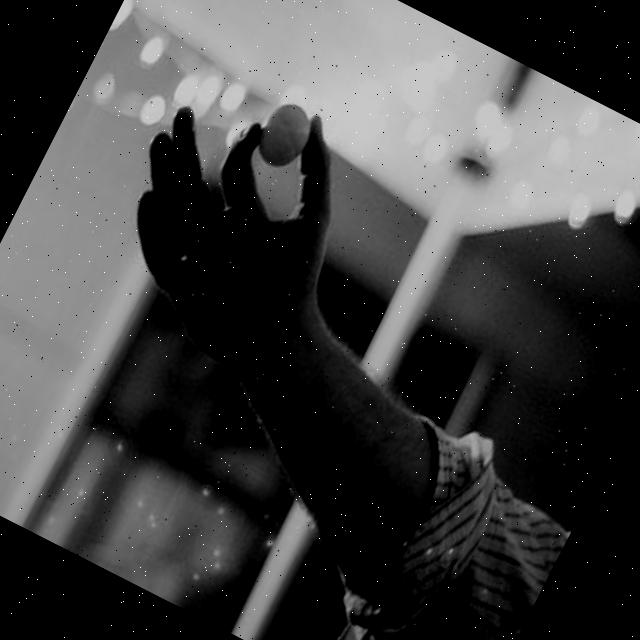ping-pong-ball: (247, 92, 323, 178)
